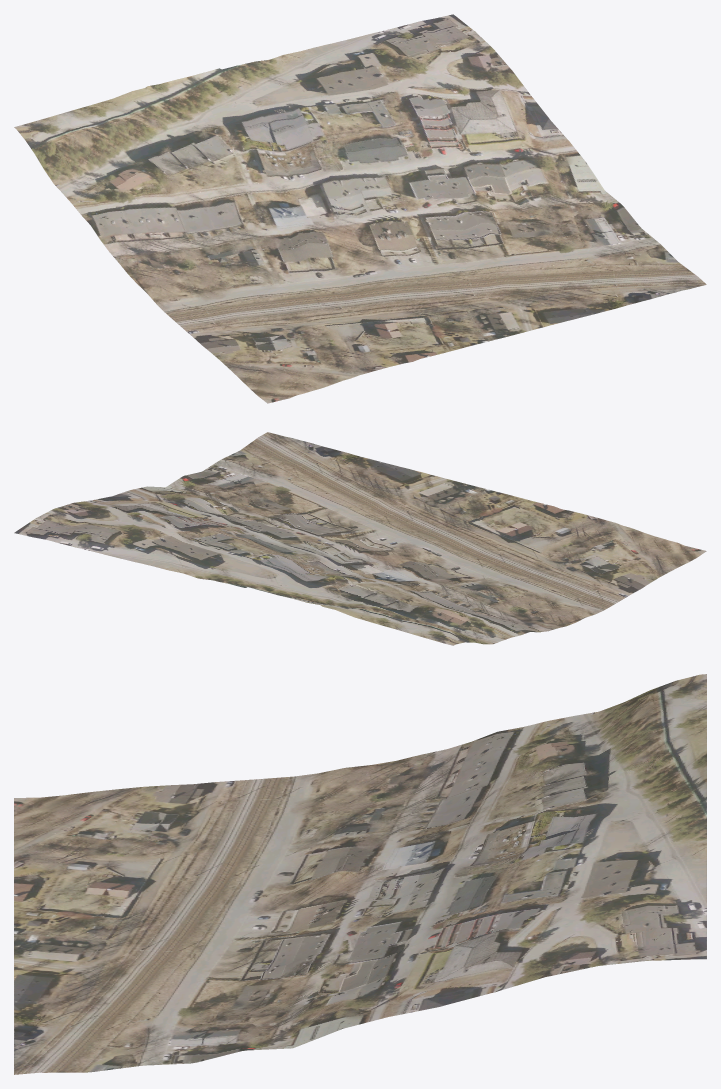
File: CM_Terrain_24489230_6820204.fbx
3 renders of one model, top to bottom at view 1: azimuth 30°, elevation 25°; view 2: azimuth 150°, elevation 25°; view 3: azimuth 270°, elevation 25°, orthographic. The views are drawn at different scales.
Visible parts, largest first — view 1: CM_Terrain_24489230_6820204_LOD0; view 2: CM_Terrain_24489230_6820204_LOD0; view 3: CM_Terrain_24489230_6820204_LOD0.
Part boxes in pixels (x1,y1,x2,y2): CM_Terrain_24489230_6820204_LOD0: (14, 14, 706, 403); CM_Terrain_24489230_6820204_LOD0: (14, 432, 706, 645); CM_Terrain_24489230_6820204_LOD0: (14, 674, 706, 1074).
Size of what is drawn, in the model's own units: 205 by 44.38 by 205.
